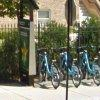Bicycle: (32, 40, 97, 90)
